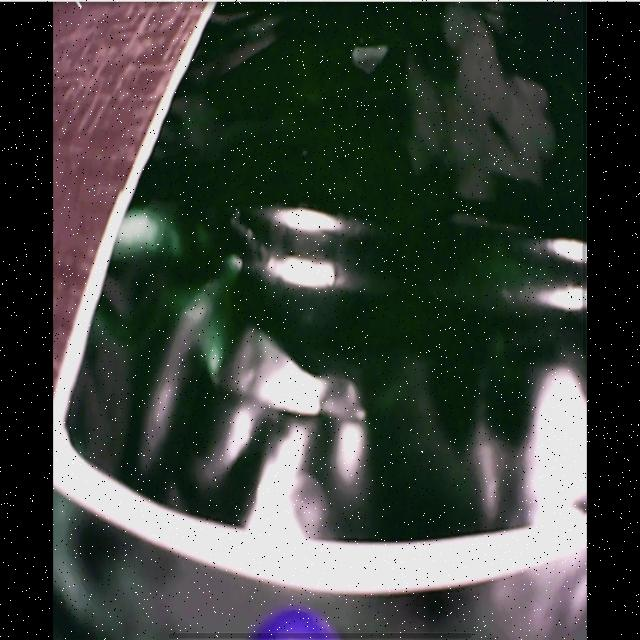ball: (252, 609, 338, 640)
